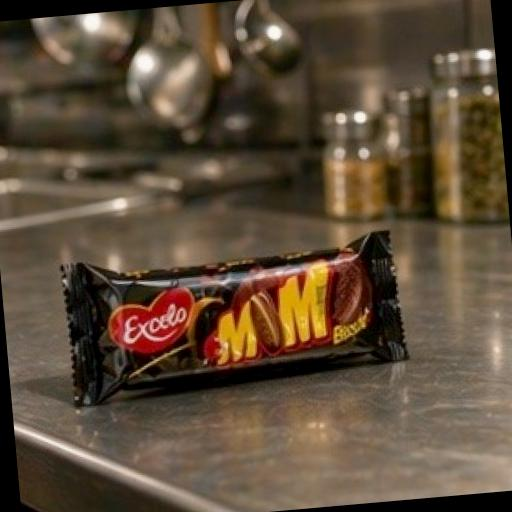MOMO: (9, 148, 497, 462)
